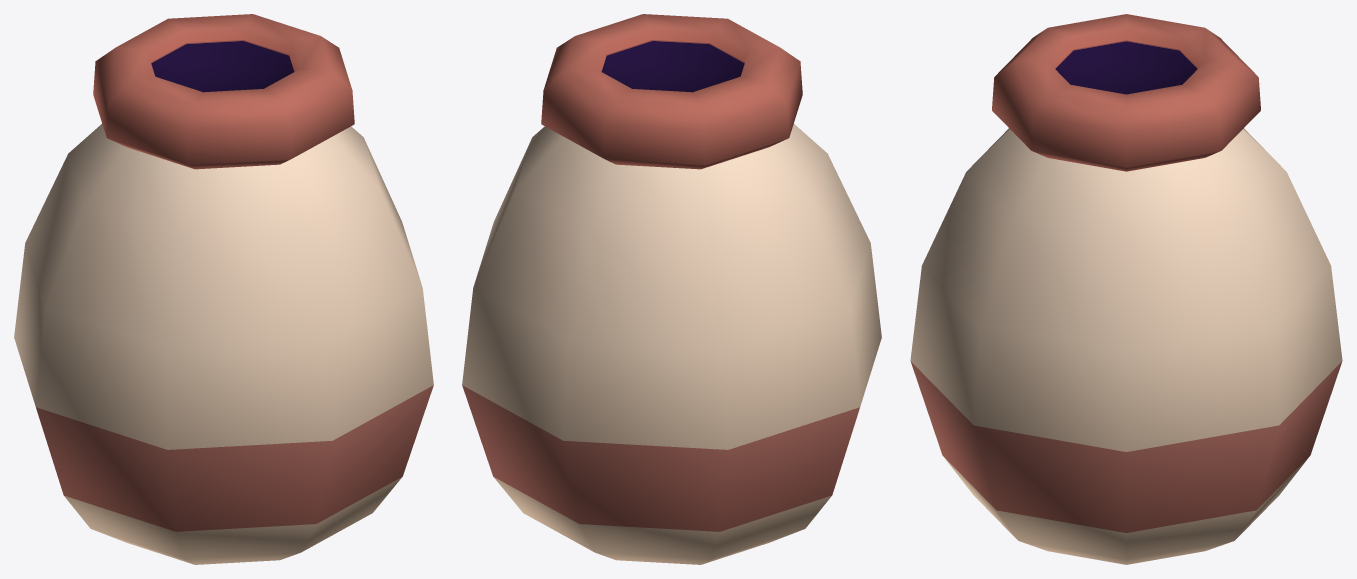
Rendered from Vase7.fbx.
3 renders of one model, left to right at view 1: azimuth 30°, elevation 25°; view 2: azimuth 150°, elevation 25°; view 3: azimuth 270°, elevation 25°, orthographic.
Parts seen in each view (by area): view 1: Vase7; view 2: Vase7; view 3: Vase7.
Boxes of the visible parts, <box> form: Vase7: <box>14,14,433,564</box>; Vase7: <box>462,14,881,564</box>; Vase7: <box>910,14,1342,564</box>.
Bounding box in the file's own units: 77.64 × 90.58 × 77.64.
